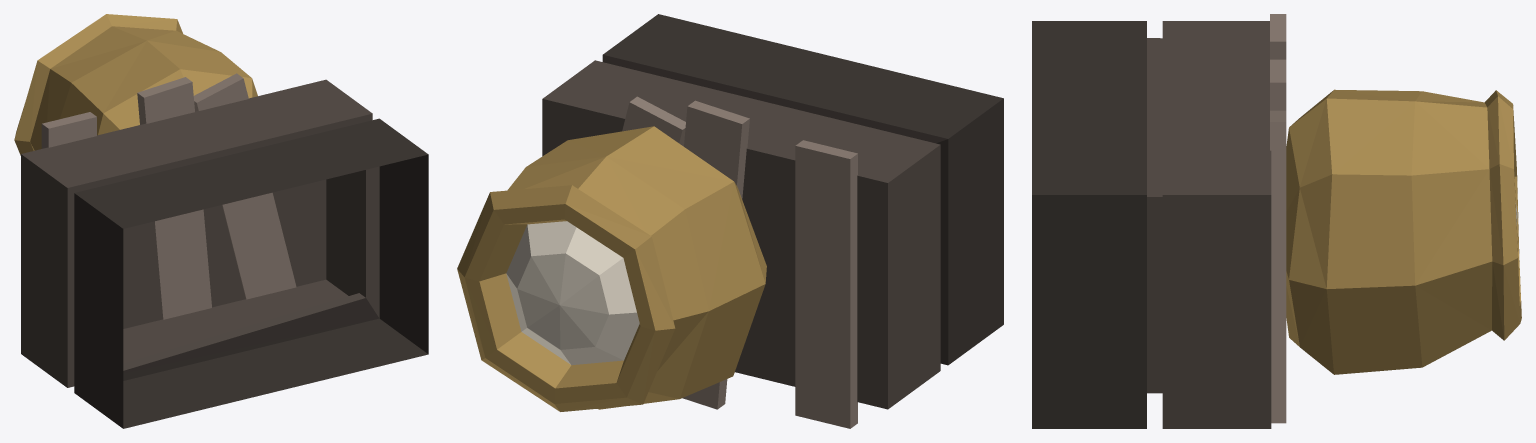
Rendered from Crate 02.FBX.
3 renders of one model, left to right at view 1: azimuth 30°, elevation 25°; view 2: azimuth 150°, elevation 25°; view 3: azimuth 270°, elevation 25°, orthographic. The views are drawn at different scales.
Parts seen in each view (by area): view 1: Crate 02; view 2: Crate 02; view 3: Crate 02.
Part boxes in pixels (<box>): Crate 02: <box>14,14,428,428</box>; Crate 02: <box>457,14,1003,428</box>; Crate 02: <box>1032,14,1521,428</box>.
Bounding box in the file's own units: 113 × 135 × 92.81.
